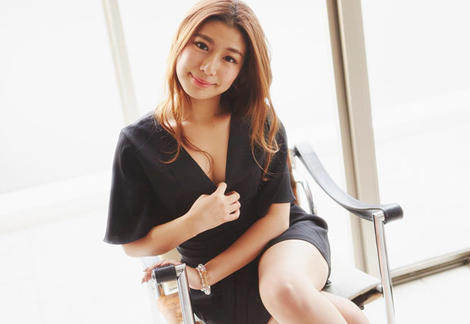face: (175, 19, 247, 100)
hand: (184, 182, 241, 237)
